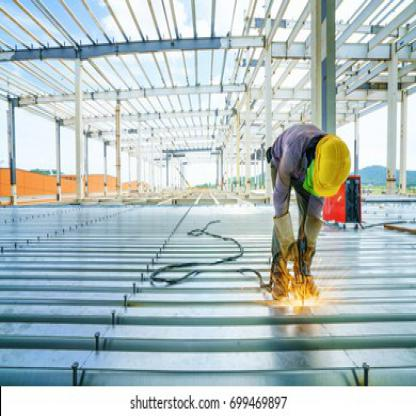with_gloves: (273, 212, 299, 263), (302, 212, 324, 268)
